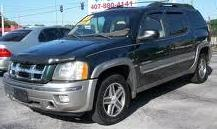front_view: (2, 55, 96, 115)
headlight: (48, 57, 91, 85)
side_glass: (129, 7, 208, 41)
